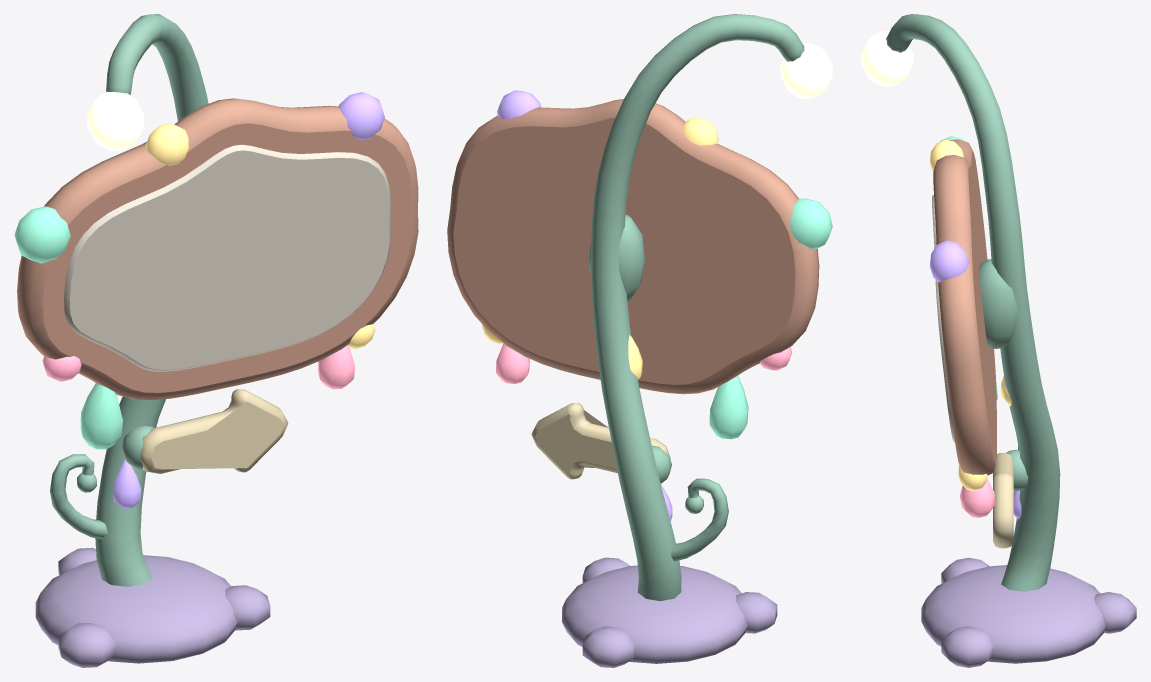
File: sign.fbx
3 views of the same model, side by side, from view 1: azimuth 30°, elevation 25°; view 2: azimuth 150°, elevation 25°; view 3: azimuth 270°, elevation 25° (orthographic). The views are drawn at different scales.
Visible parts, largest first — view 1: Sign_Panel, Sign_Board, Sign_Base, Sign_Stem, Sign_PaintDrops, Sign_Arrow, Sign_Bulb; view 2: Sign_Board, Sign_Stem, Sign_Base, Sign_PaintDrops, Sign_Arrow, Sign_Bulb, Sign_Mount; view 3: Sign_Stem, Sign_Base, Sign_Board, Sign_PaintDrops, Sign_Mount, Sign_Arrow, Sign_Bulb, Sign_Panel.
Boxes of the visible parts, <box> form: Sign_Panel: <box>64,144,390,371</box>; Sign_Board: <box>17,98,418,399</box>; Sign_Base: <box>35,547,270,667</box>; Sign_Stem: <box>50,14,208,586</box>; Sign_PaintDrops: <box>14,92,384,508</box>; Sign_Arrow: <box>121,389,288,473</box>; Sign_Bulb: <box>87,91,143,151</box>; Sign_Board: <box>447,99,819,394</box>; Sign_Stem: <box>591,14,804,601</box>; Sign_Base: <box>562,557,777,667</box>; Sign_PaintDrops: <box>482,90,832,520</box>; Sign_Arrow: <box>531,403,671,483</box>; Sign_Bulb: <box>780,43,832,98</box>; Sign_Mount: <box>588,214,644,301</box>; Sign_Stem: <box>886,14,1060,591</box>; Sign_Base: <box>921,557,1136,667</box>; Sign_Board: <box>933,139,996,475</box>; Sign_PaintDrops: <box>929,136,1021,518</box>; Sign_Mount: <box>979,259,1018,348</box>; Sign_Arrow: <box>993,449,1028,548</box>; Sign_Bulb: <box>861,31,913,86</box>; Sign_Panel: <box>932,194,954,442</box>.
Size of the model in its own units: 1.03 by 1.57 by 0.6628.
